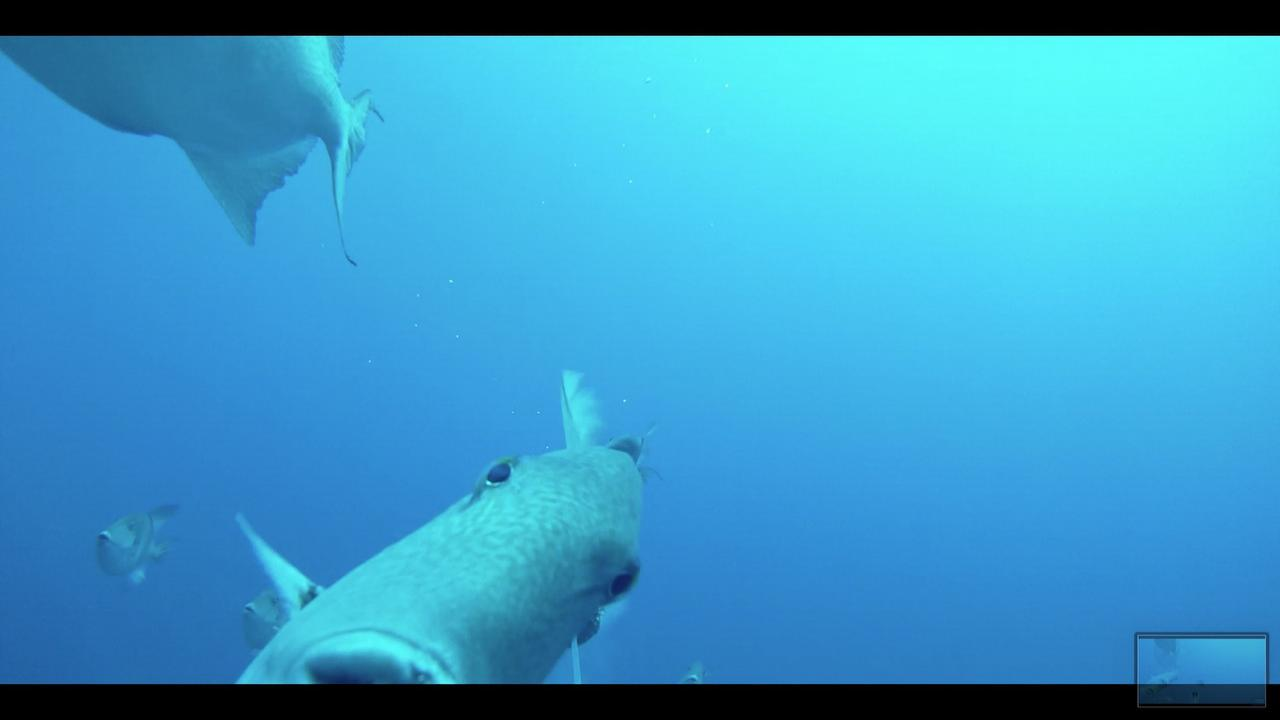balistes: (223, 364, 664, 680), (1, 37, 390, 268), (90, 494, 186, 590)
